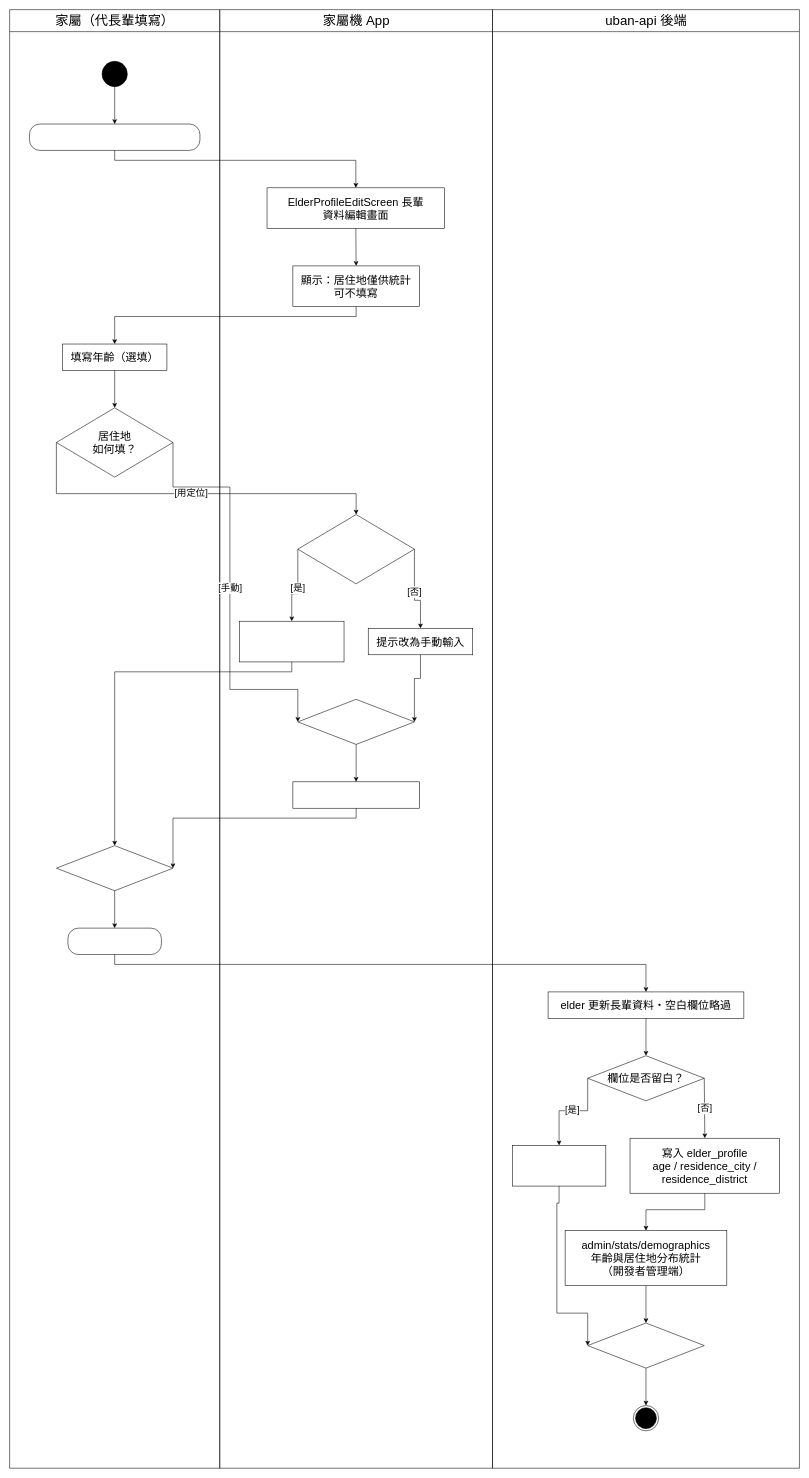
This 809x1478 diagram has some shape labels left out. Each missing label, with the centre of its shape:
"取得座標後反查 縣市／行政區文字" belongs at (291,641).
"已授權 GPS？" belongs at (355,549).
"手動輸入縣市／行政區" belongs at (355,794).
"於『資料』分頁點編輯長輩檔案" belongs at (114,136).
"略過該欄 維持原值不動" belongs at (559,1165).
"送出儲存" belongs at (114,941).
